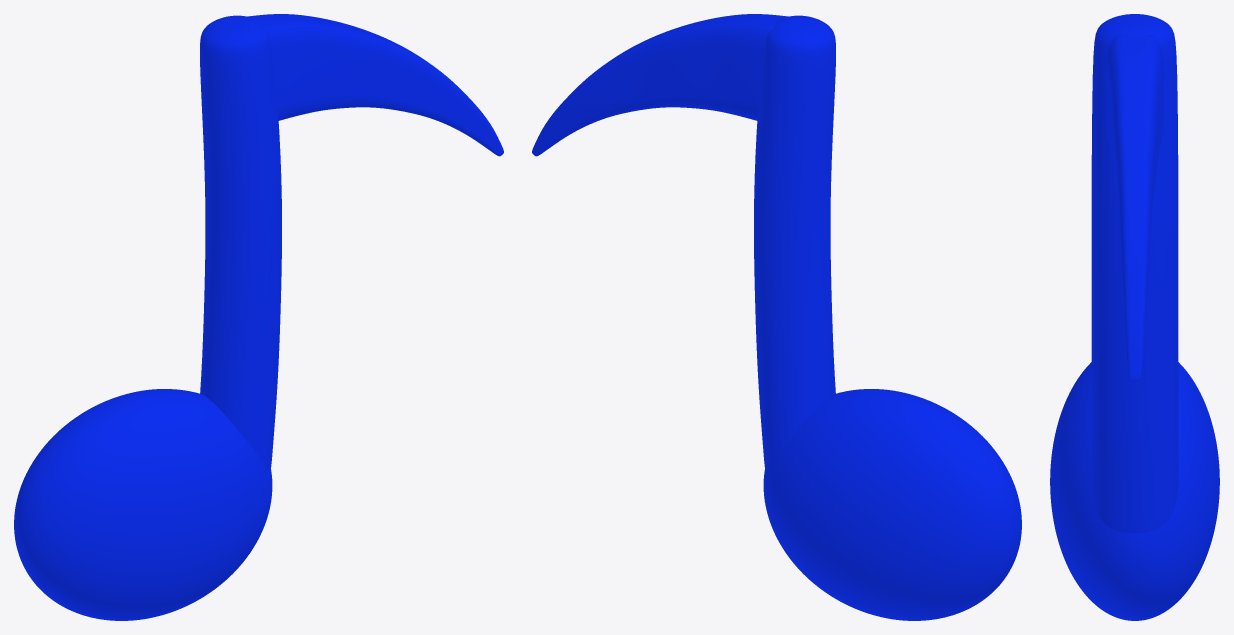
File: music_note.glb
The picture shows the model from 3 angles, left to right: view 1: azimuth 30°, elevation 25°; view 2: azimuth 150°, elevation 25°; view 3: azimuth 270°, elevation 25°; orthographic projection. The views are drawn at different scales.
Parts seen in each view (by area): view 1: obj_music-note_4_5_3; view 2: obj_music-note_4_5_3; view 3: obj_music-note_4_5_3.
Boxes of the visible parts, <box> form: obj_music-note_4_5_3: <box>14,14,503,620</box>; obj_music-note_4_5_3: <box>532,14,1021,620</box>; obj_music-note_4_5_3: <box>1050,14,1219,620</box>.
Bounding box in the file's own units: 0.6132 × 0.6904 × 0.1677.
1 material, 1 textured.
